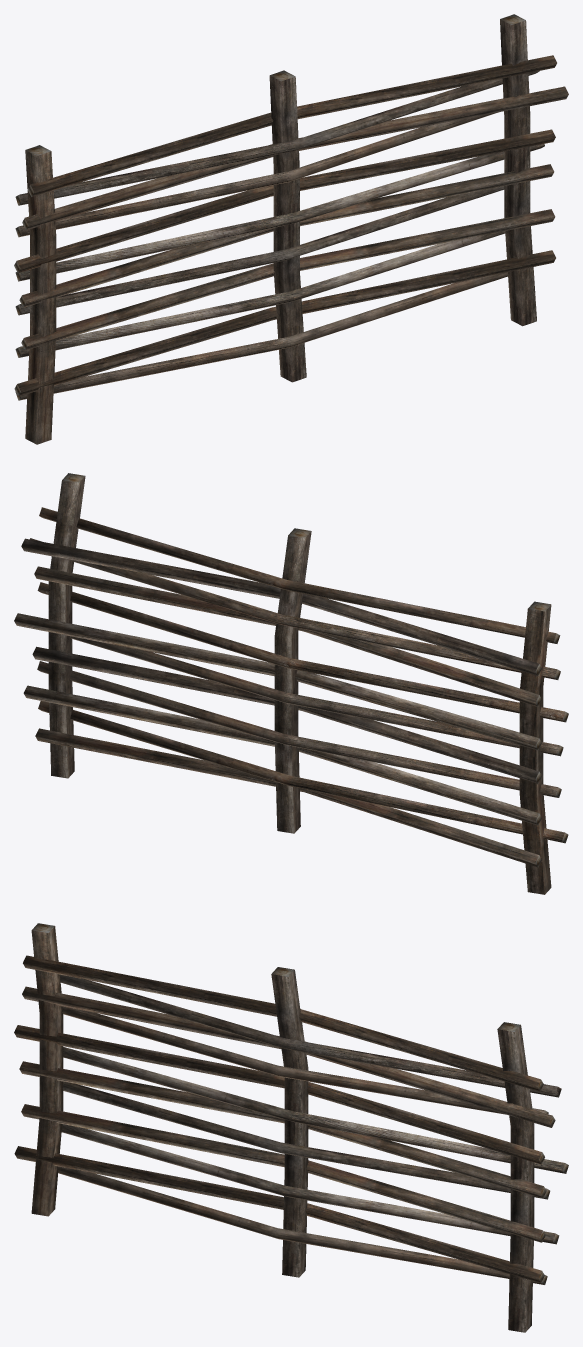
Rendered from fence2.fbx.
3 views of the same model, one above another, from view 1: azimuth 30°, elevation 25°; view 2: azimuth 150°, elevation 25°; view 3: azimuth 330°, elevation 25° (orthographic).
Parts seen in each view (by area): view 1: Cube_008; view 2: Cube_008; view 3: Cube_008.
Boxes of the visible parts, x1,y1,x2,y2 form: Cube_008: [14, 14, 568, 444]; Cube_008: [14, 473, 568, 894]; Cube_008: [14, 923, 568, 1332].
Size of the model in its own units: 75.84 by 40.25 by 6.46.
